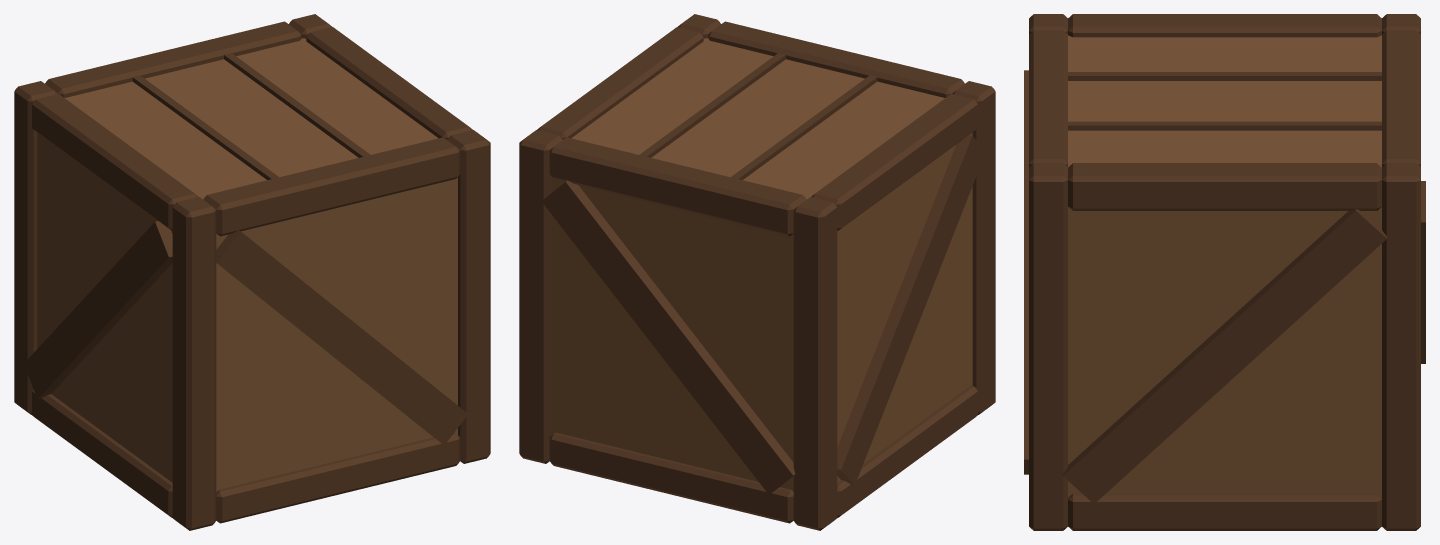
File: env_crate.glb
3 views of the same model, side by side, from view 1: azimuth 30°, elevation 25°; view 2: azimuth 150°, elevation 25°; view 3: azimuth 270°, elevation 25° (orthographic). The views are drawn at different scales.
Visible parts, largest first — view 1: env_crate; view 2: env_crate; view 3: env_crate.
Part boxes in pixels (x1,y1,x2,y2): env_crate: (14, 14, 490, 530); env_crate: (519, 14, 995, 530); env_crate: (1024, 14, 1425, 530).
Bounding box in the file's own units: 0.82 × 0.8 × 0.82.
